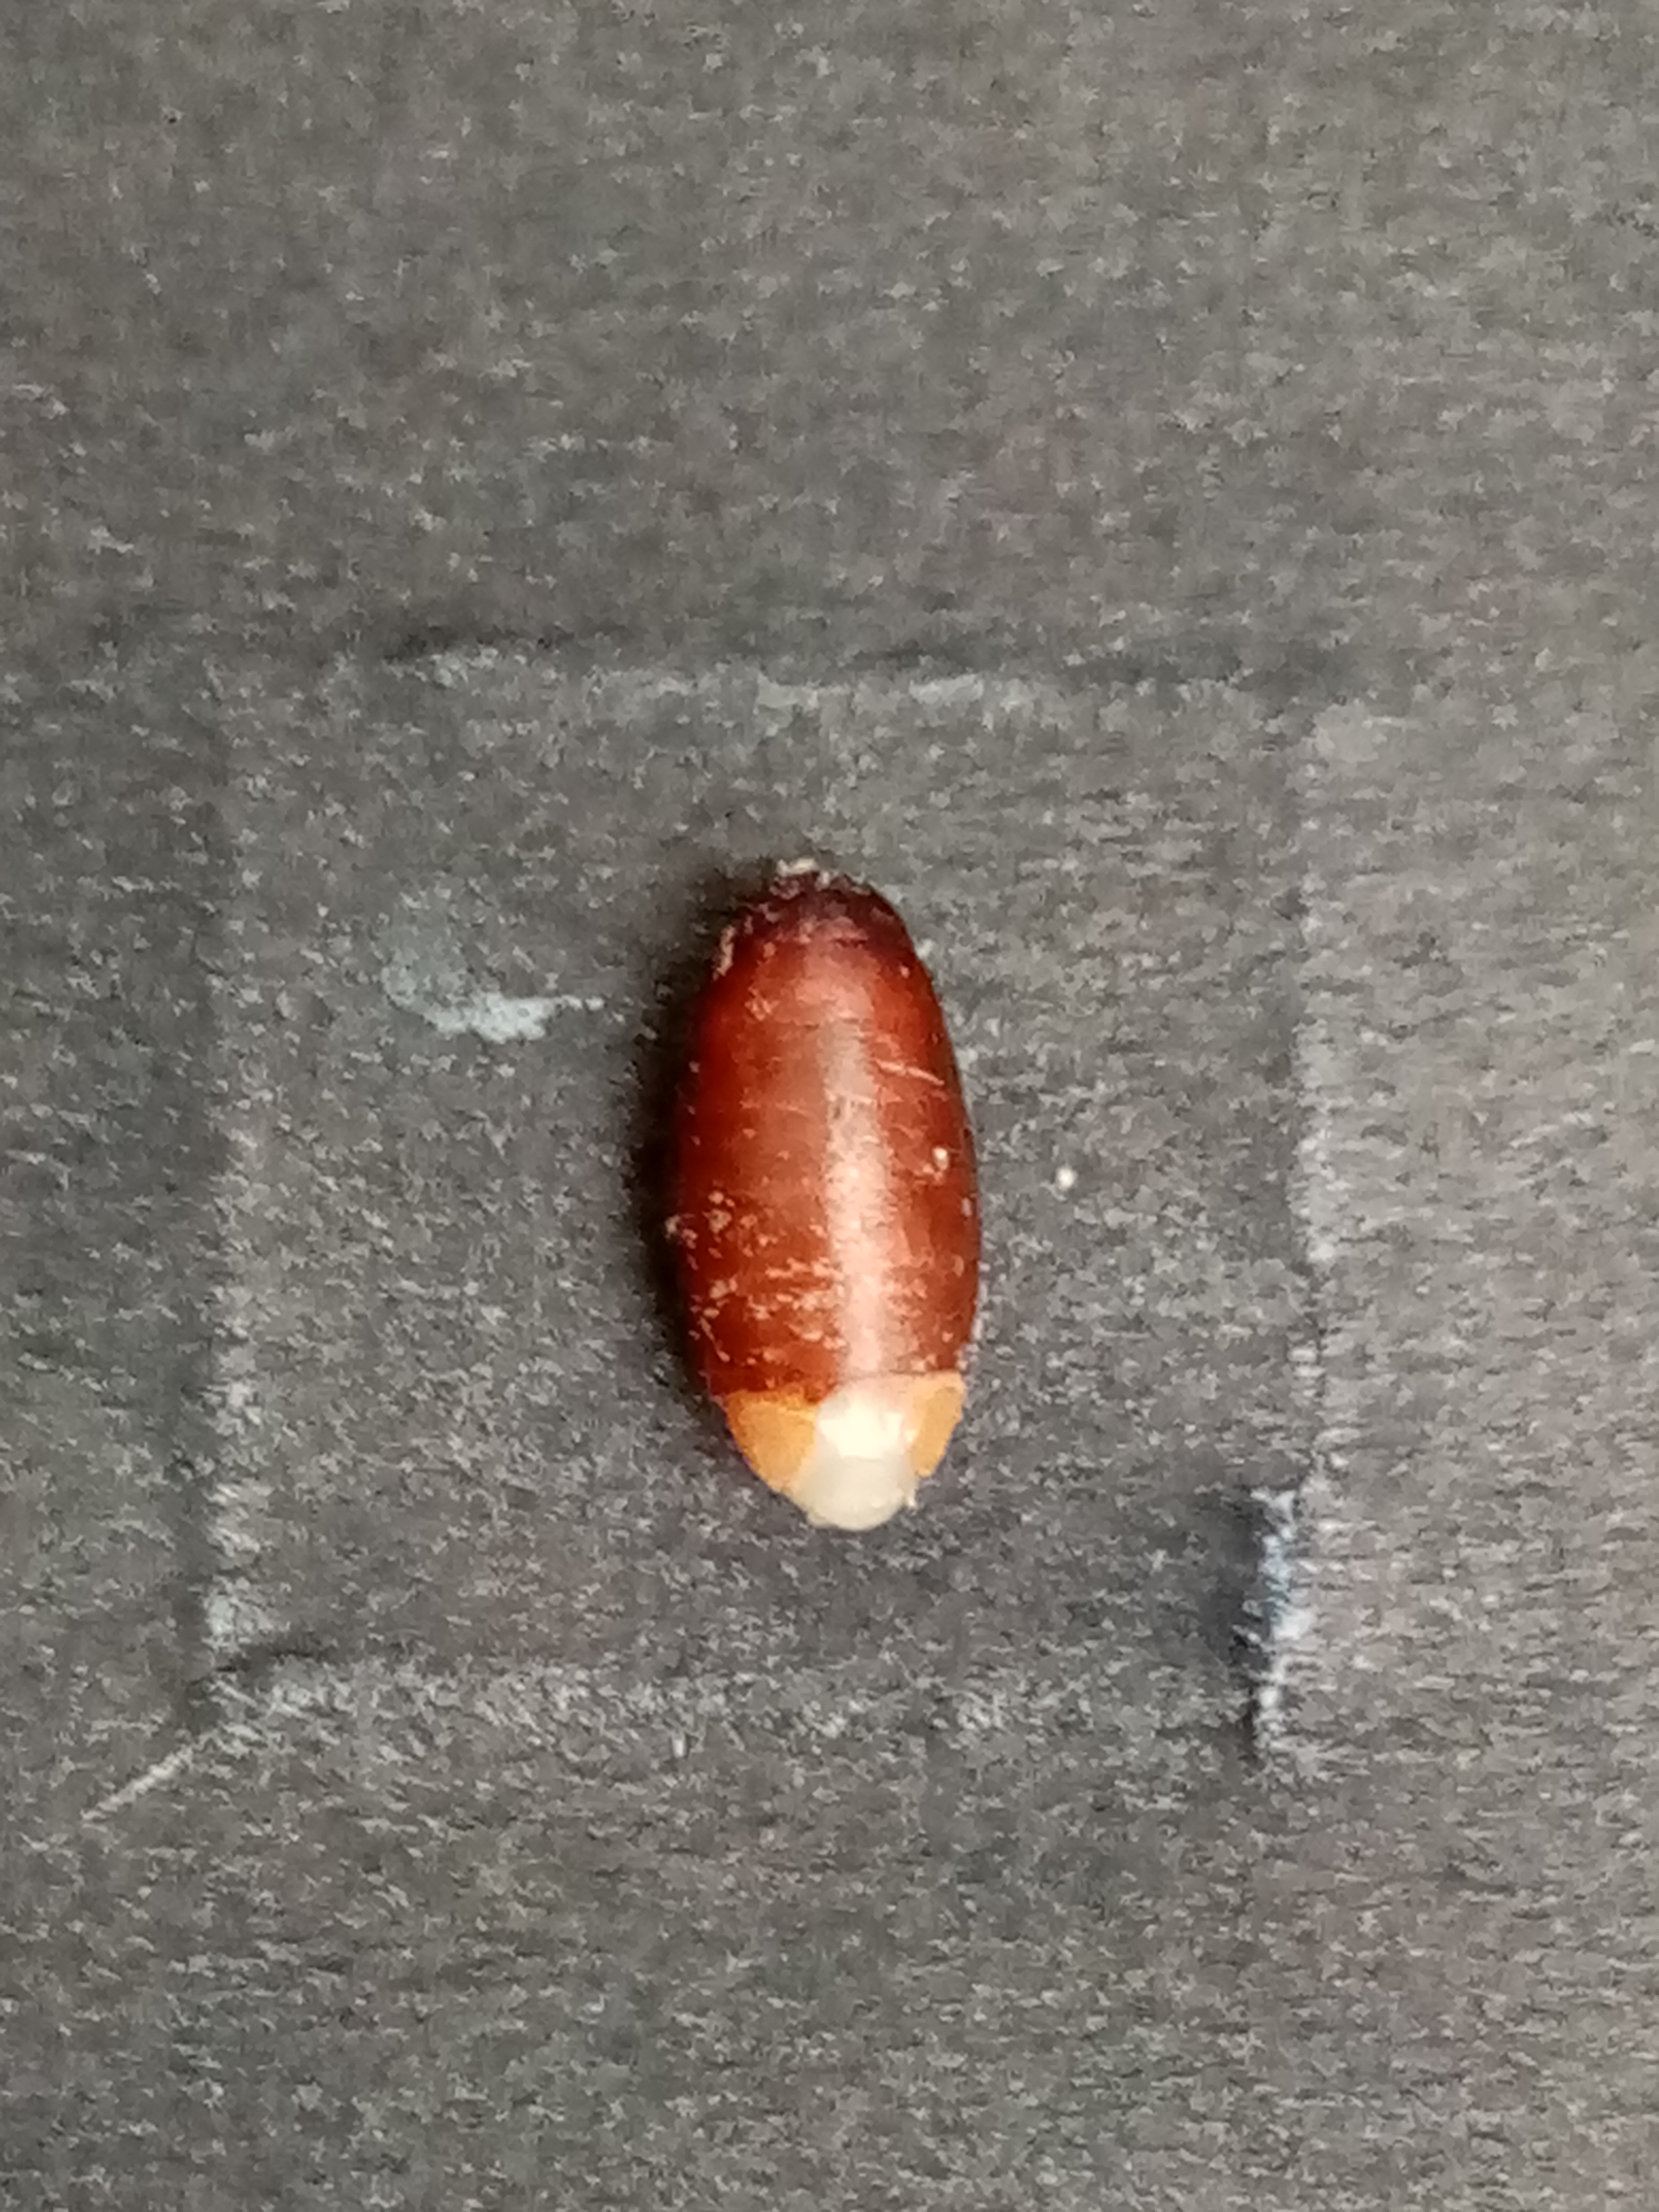pupa: (708, 1385, 995, 1536)
